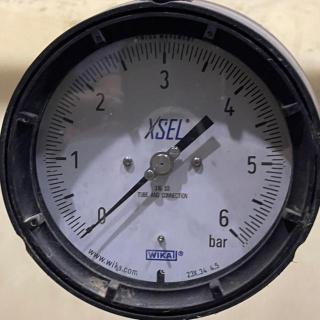gauge: (13, 18, 309, 304), (81, 206, 111, 242), (218, 214, 242, 244), (150, 151, 173, 175), (78, 232, 88, 242)
